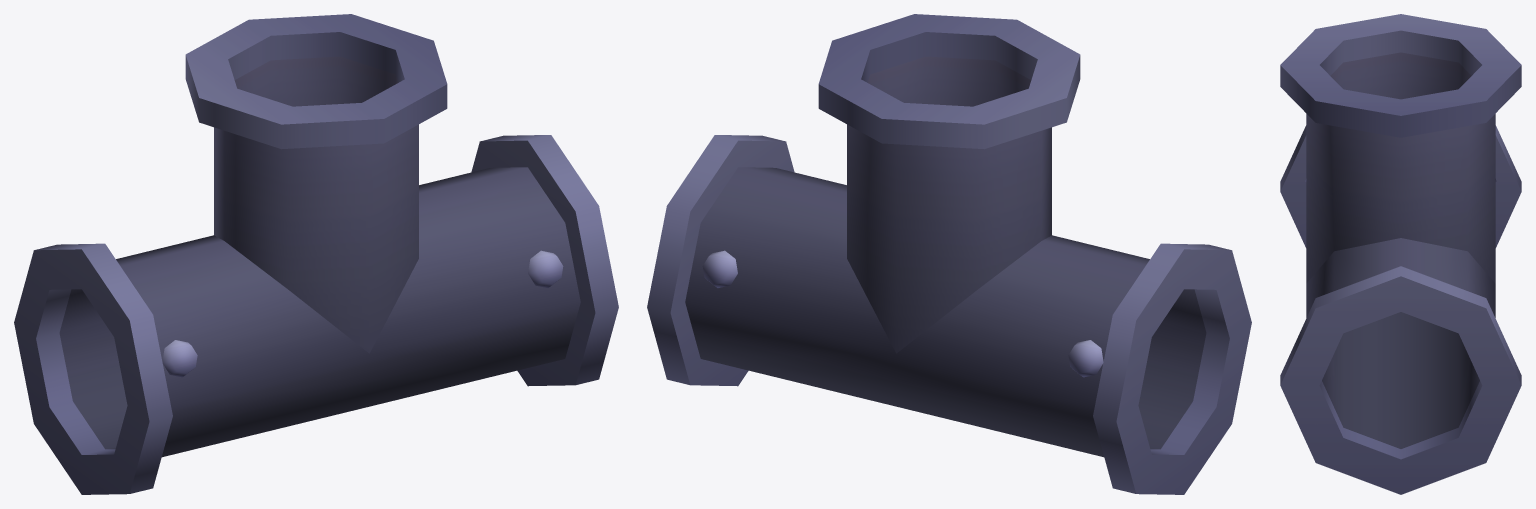
Rendered from kenney-factory-pipe-large-side.glb.
3 views of the same model, side by side, from view 1: azimuth 30°, elevation 25°; view 2: azimuth 150°, elevation 25°; view 3: azimuth 270°, elevation 25° (orthographic). The views are drawn at different scales.
Visible parts, largest first — view 1: pipe-large-side; view 2: pipe-large-side; view 3: pipe-large-side.
Part boxes in pixels (bbox=[...]): pipe-large-side: bbox=[14, 14, 618, 494]; pipe-large-side: bbox=[647, 14, 1251, 494]; pipe-large-side: bbox=[1280, 14, 1521, 494].
Bounding box in the file's own units: 2 × 1.5 × 1.
1 material, 1 textured.
